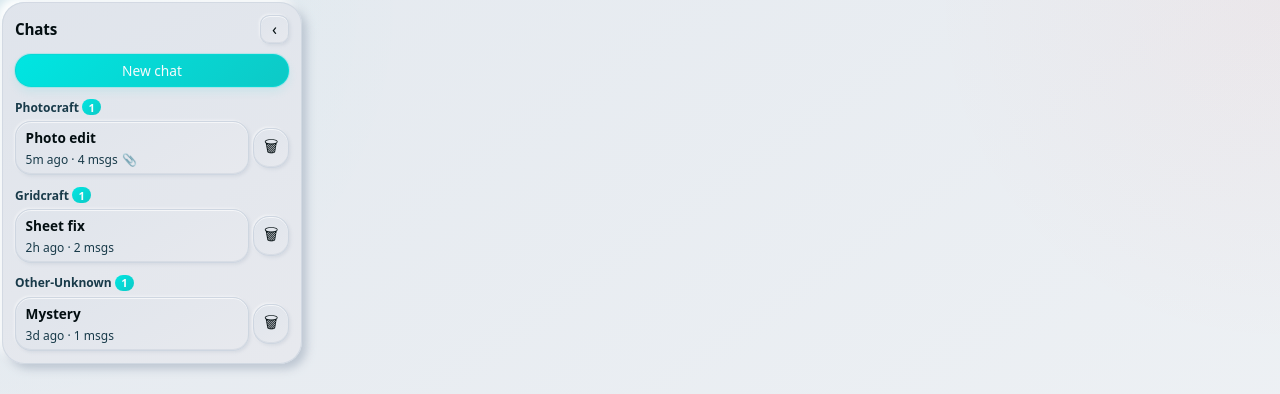
Test: Sidebar › delete uses an inline confirm and removes the item
The width and height of the screenshot is (1280, 394).
Expected: the text "Sheet fix" is shown, [26,216,85,235]
Click the button named "Delete Sheet fix" at point(271, 236), box [253,216,289,256]
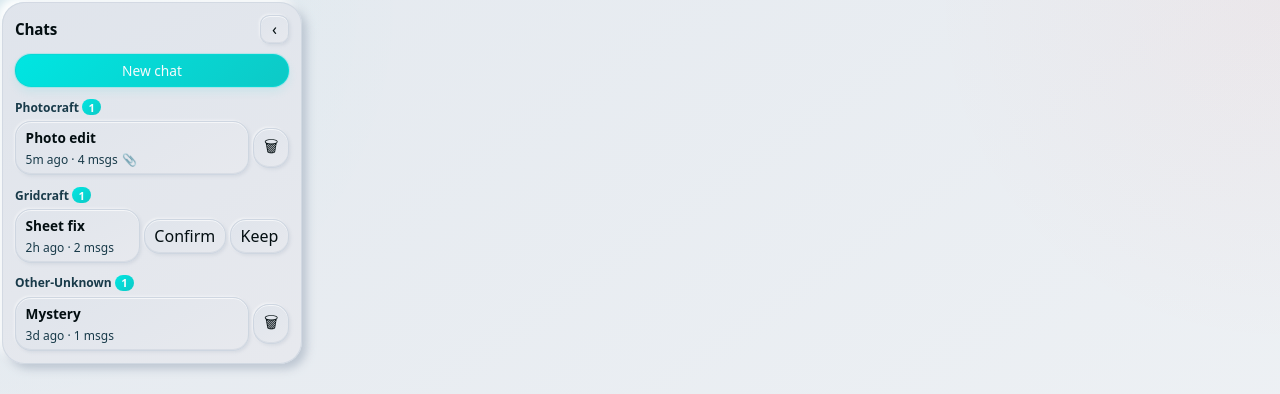
Click the button with aria-label "Confirm delete Sheet fix" at point(185, 236), box [144,219,226,254]
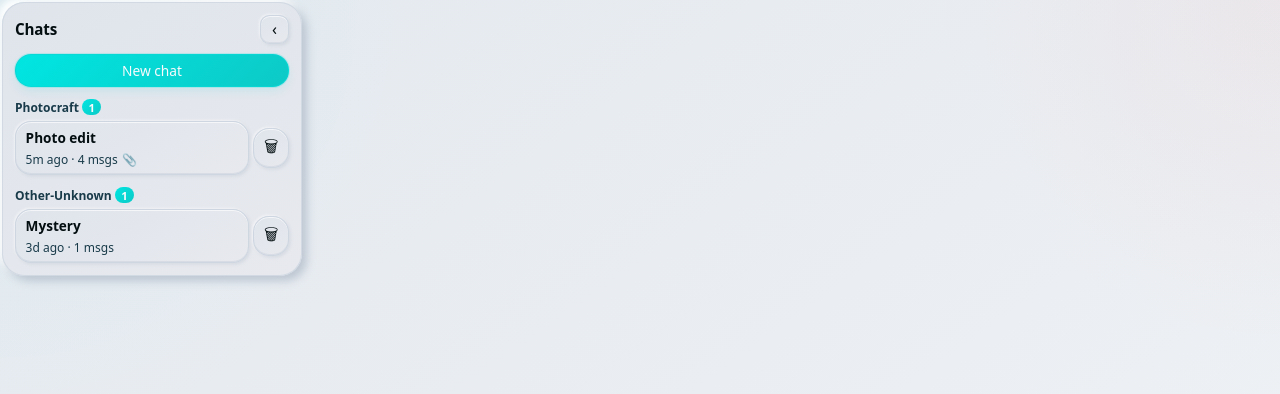
Expected: the text "Photo edit" is shown, [26,128,96,147]
Result: the button "Sheet fix" is gone
